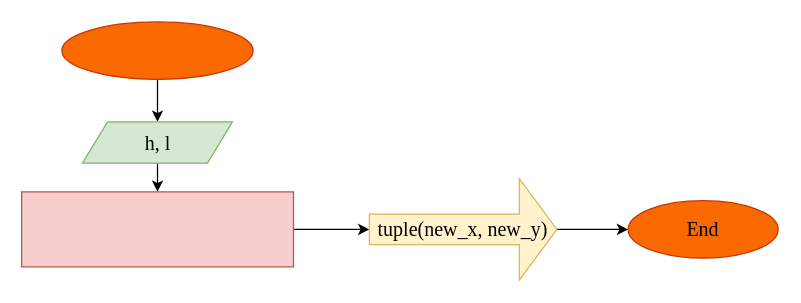
Image size: 801x303. Some labels were removed from this diagram. The shapes that lost their labels are listed below. From the top down, each one's centre as x and y in pixels, then its label:
At [157,50]: "rnd_point function Begin".
At [157,229]: "new_y = random.randit(0, h) new_x = random.randit(0, l)".
